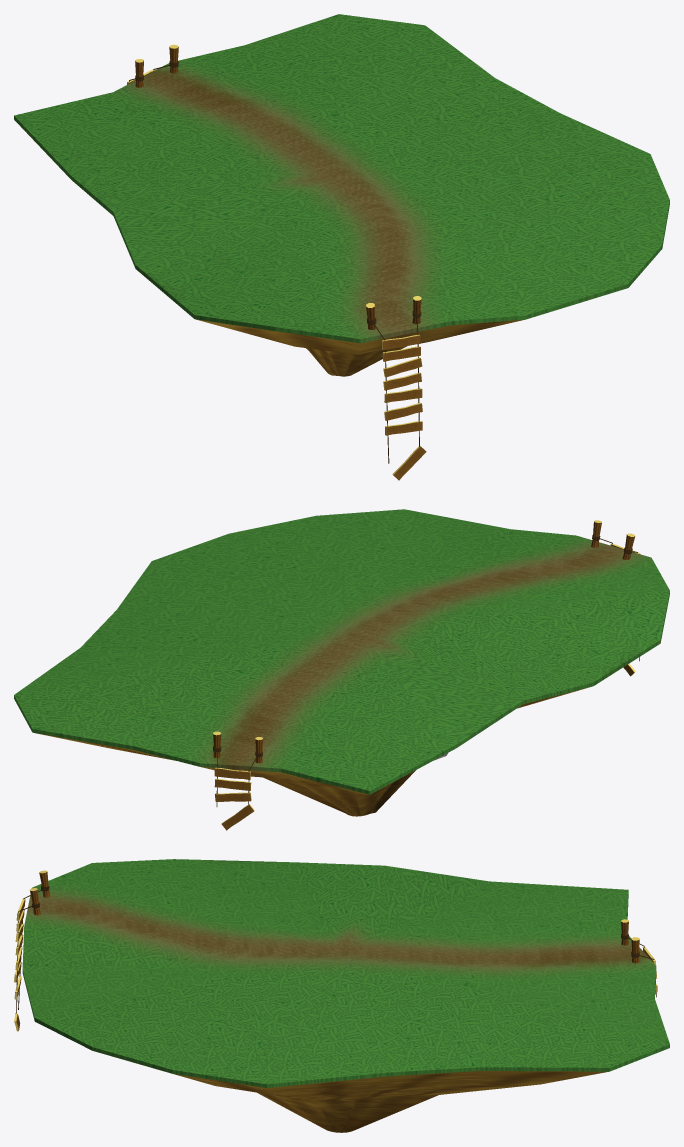
Rendered from island_01_exported.fbx.
3 views of the same model, one above another, from view 1: azimuth 30°, elevation 25°; view 2: azimuth 150°, elevation 25°; view 3: azimuth 270°, elevation 25° (orthographic). The views are drawn at different scales.
Parts seen in each view (by area): view 1: island, hangBridge_geo; view 2: island, hangBridge_geo; view 3: island, hangBridge_geo.
Boxes of the visible parts, left/top/right/bottom form: island: left=14, top=14, right=669, bottom=376; hangBridge_geo: left=127, top=44, right=426, bottom=480; island: left=14, top=509, right=669, bottom=816; hangBridge_geo: left=213, top=520, right=640, bottom=830; island: left=22, top=859, right=669, bottom=1132; hangBridge_geo: left=14, top=870, right=657, bottom=1031.
Bounding box in the file's own units: 6.09 × 2.49 × 7.49.
